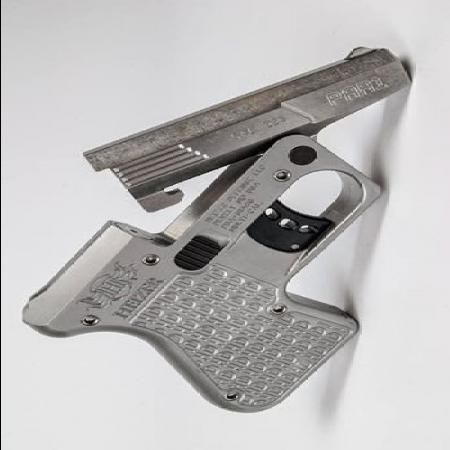Pistol: (18, 39, 409, 416)
